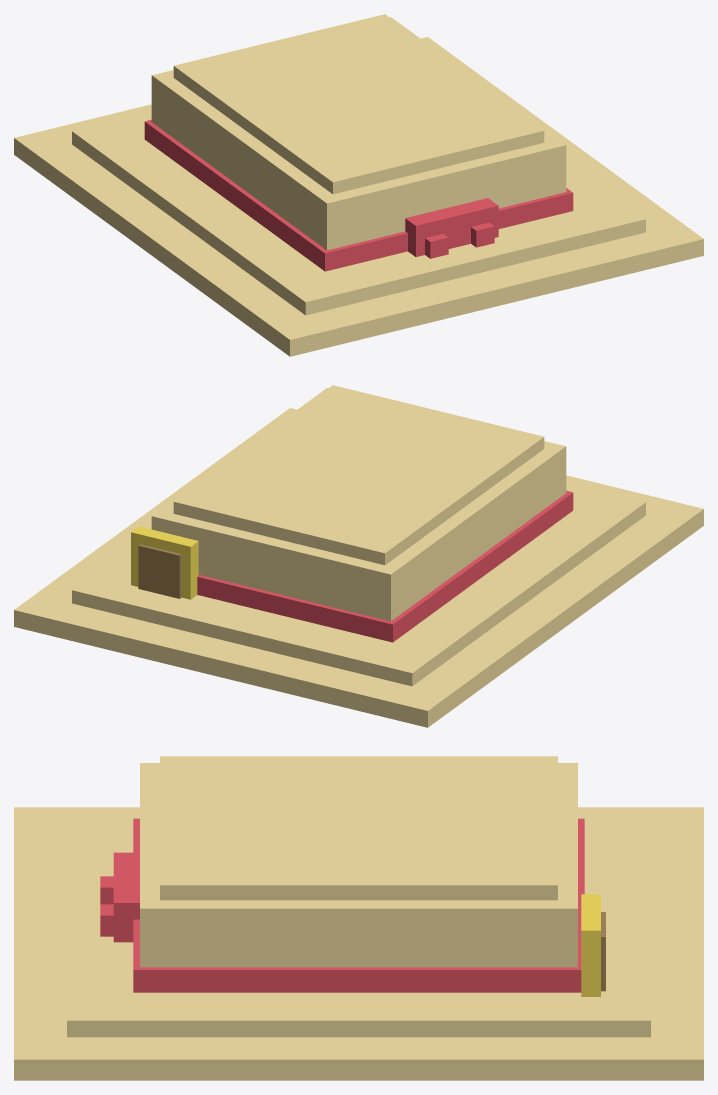
Rendered from chapeu_junino.glb.
3 views of the same model, one above another, from view 1: azimuth 30°, elevation 25°; view 2: azimuth 150°, elevation 25°; view 3: azimuth 270°, elevation 25° (orthographic). The views are drawn at different scales.
Parts seen in each view (by area): view 1: chapeu_junino; view 2: chapeu_junino; view 3: chapeu_junino.
Part boxes in pixels (<box>): chapeu_junino: <box>14,14,703,356</box>; chapeu_junino: <box>14,385,703,727</box>; chapeu_junino: <box>14,756,703,1080</box>.
Size of the model in its own units: 0.9 by 0.285 by 1.04.
